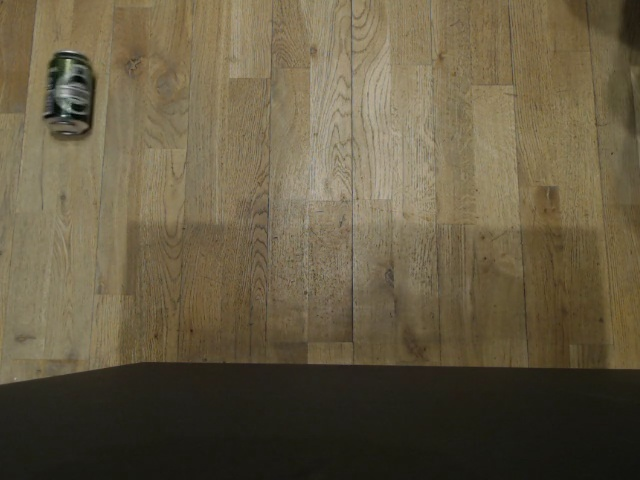beer: (41, 48, 97, 141)
